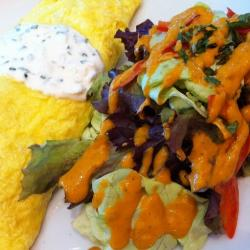omelette: (5, 3, 133, 243)
